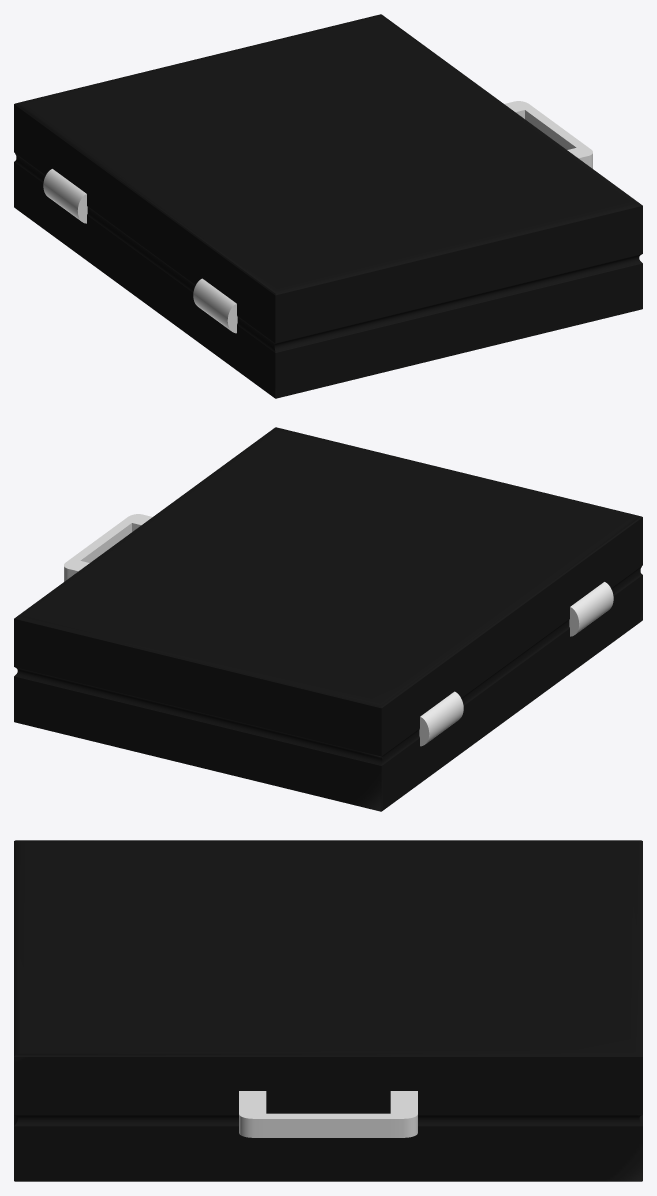
Rendered from briefcase.fbx.
3 views of the same model, one above another, from view 1: azimuth 30°, elevation 25°; view 2: azimuth 150°, elevation 25°; view 3: azimuth 270°, elevation 25° (orthographic). The views are drawn at different scales.
Visible parts, largest first — view 1: Object_2, Object_3; view 2: Object_2, Object_3; view 3: Object_2, Object_3.
Part boxes in pixels (x1=…): Object_2: x1=14, y1=14, x2=642, y2=398; Object_3: x1=43, y1=101, x2=592, y2=333; Object_2: x1=14, y1=427, x2=642, y2=811; Object_3: x1=64, y1=514, x2=613, y2=746; Object_2: x1=14, y1=840, x2=642, y2=1181; Object_3: x1=239, y1=1091, x2=417, y2=1137.
Size of the model in its own units: 188 by 44.94 by 200.
